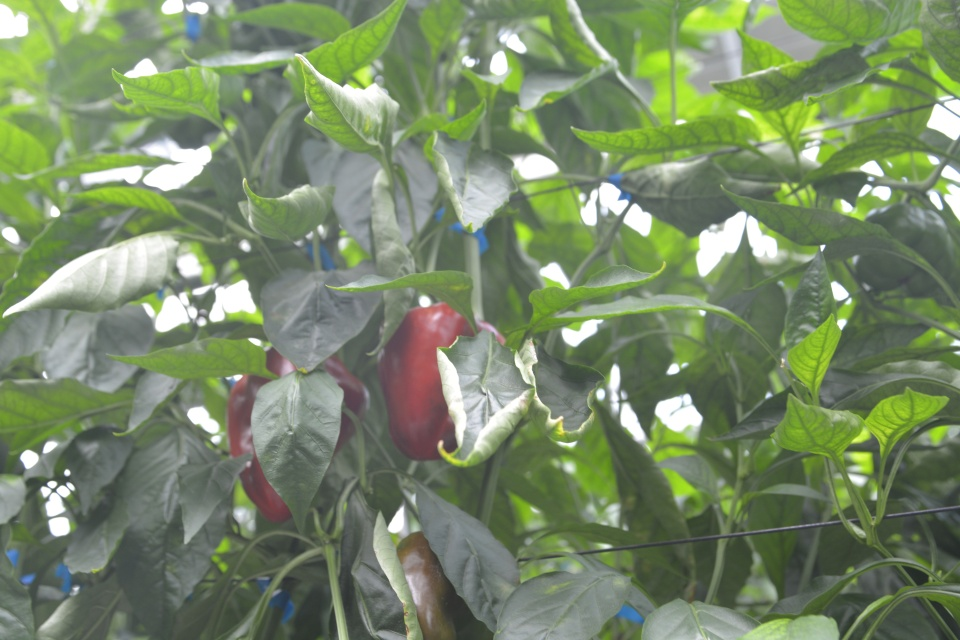fruit: (224, 344, 374, 525), (380, 301, 508, 464), (851, 199, 957, 301), (396, 527, 466, 639)
